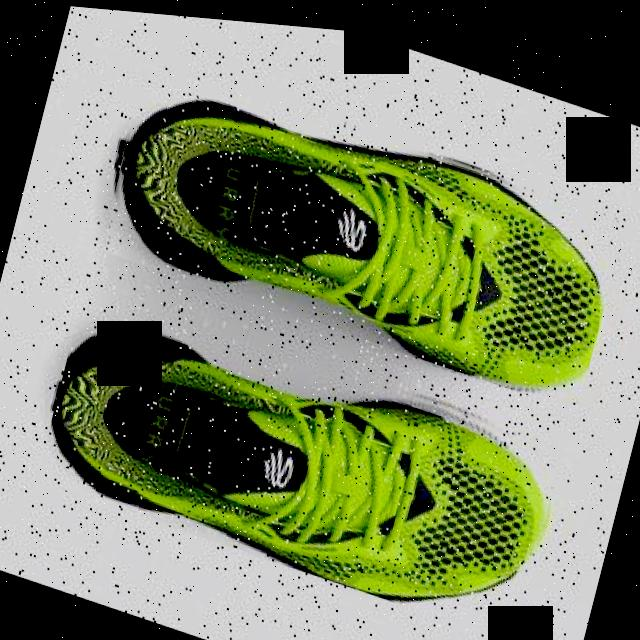shoe: (35, 270, 569, 638), (92, 44, 627, 404)
